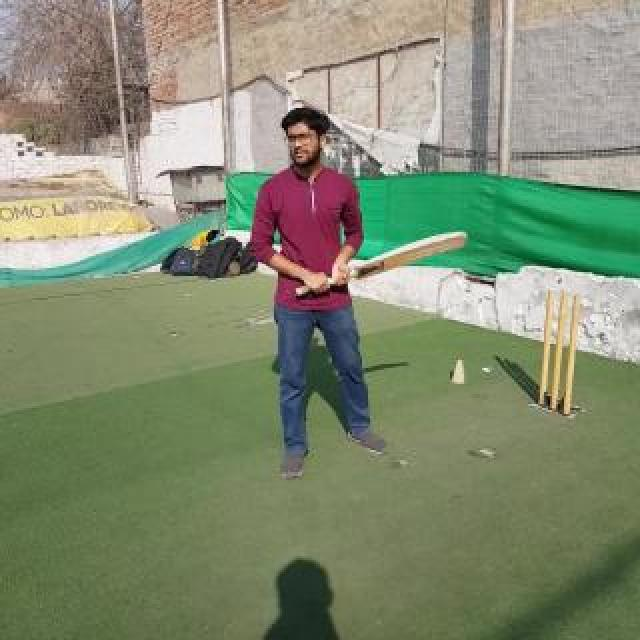bat: (296, 230, 468, 296)
